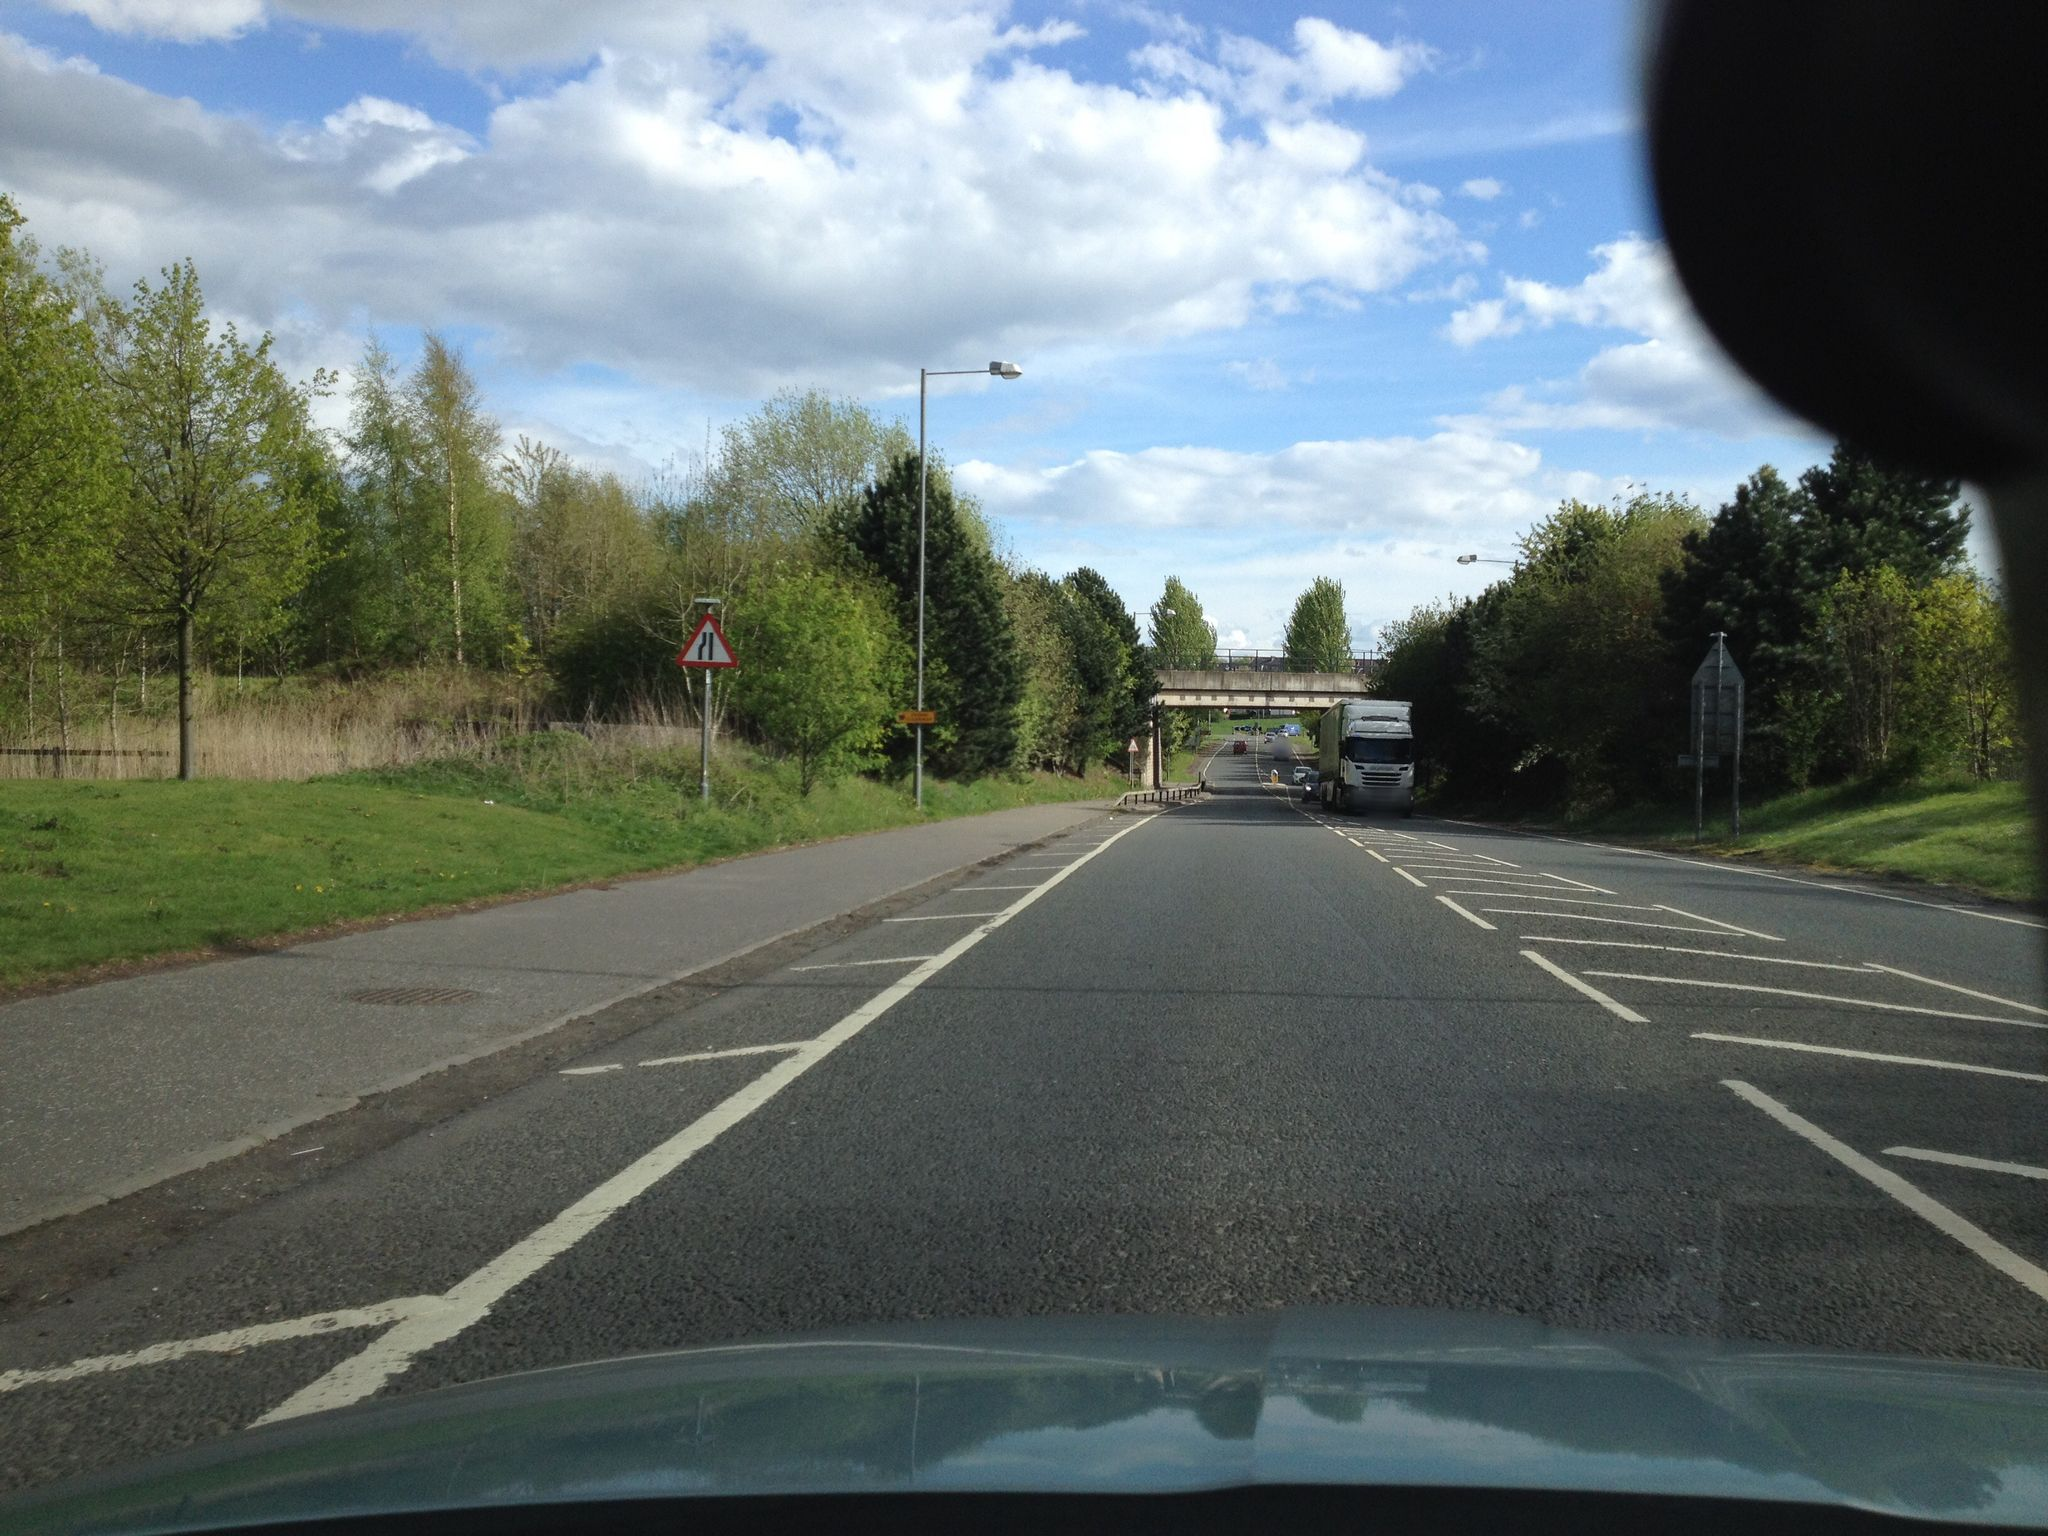car: (1300, 770, 1321, 800), (1290, 765, 1313, 784)
truck: (1314, 699, 1416, 816)
